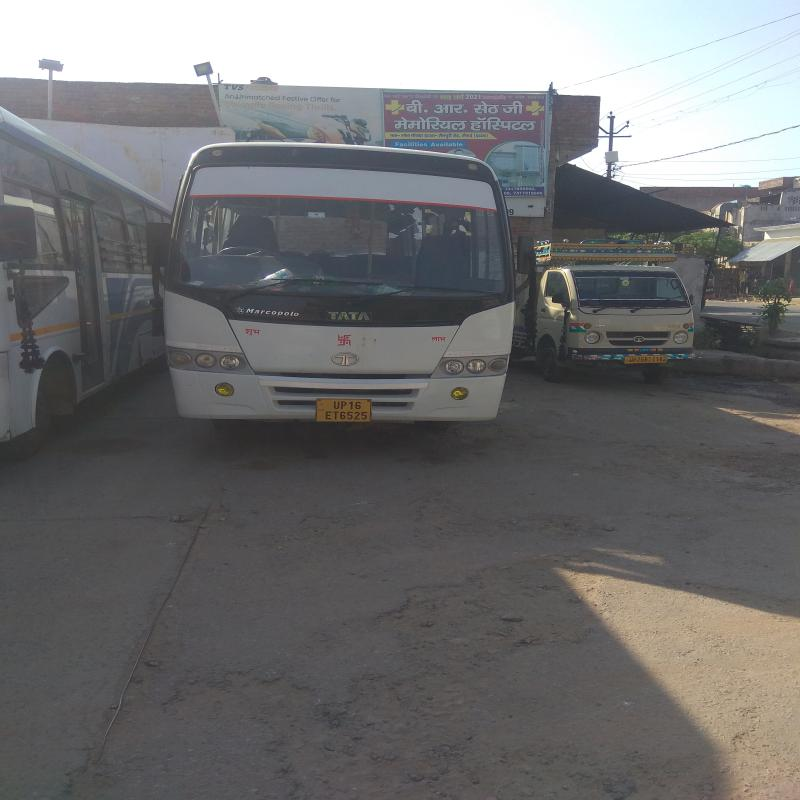bus: (160, 122, 536, 443)
